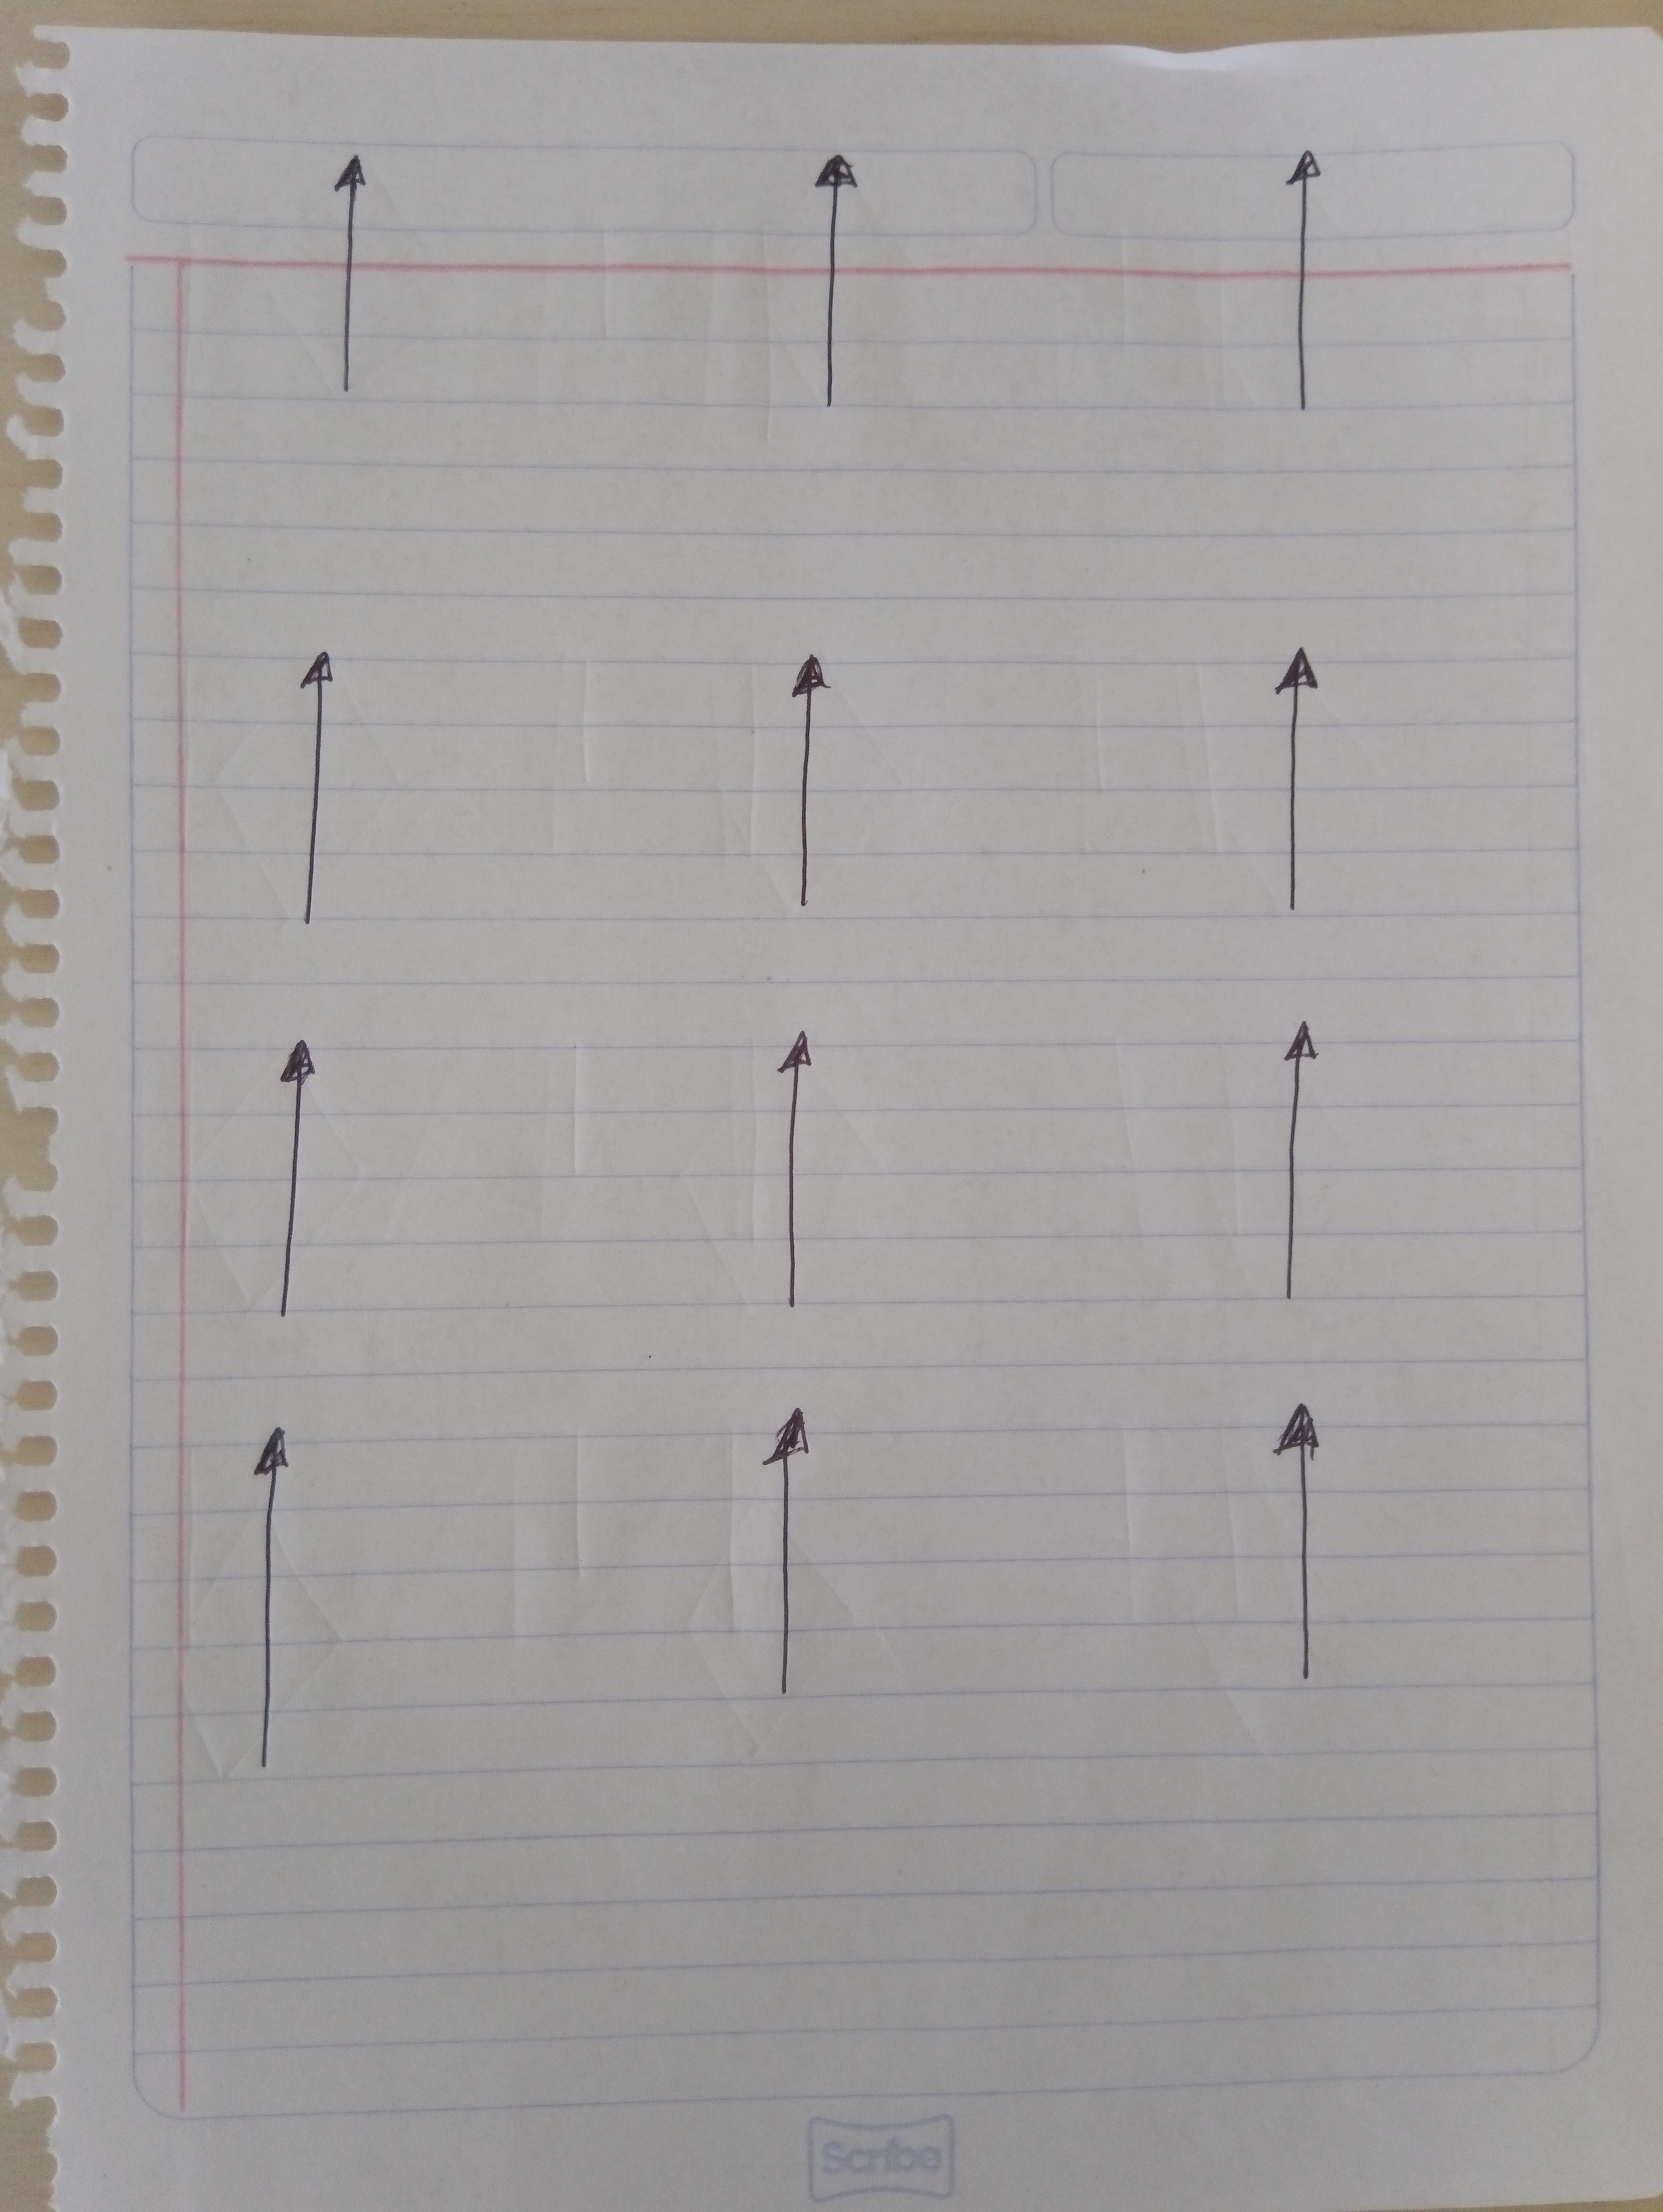arrow_line_up: (1261, 147, 1397, 473), (300, 136, 409, 442), (767, 639, 866, 946), (257, 1035, 355, 1344), (1251, 644, 1359, 911), (758, 1404, 840, 1723), (231, 1423, 313, 1741), (1266, 1016, 1347, 1336), (290, 655, 365, 941), (793, 133, 872, 400), (755, 1014, 825, 1313), (1282, 1388, 1347, 1707)
